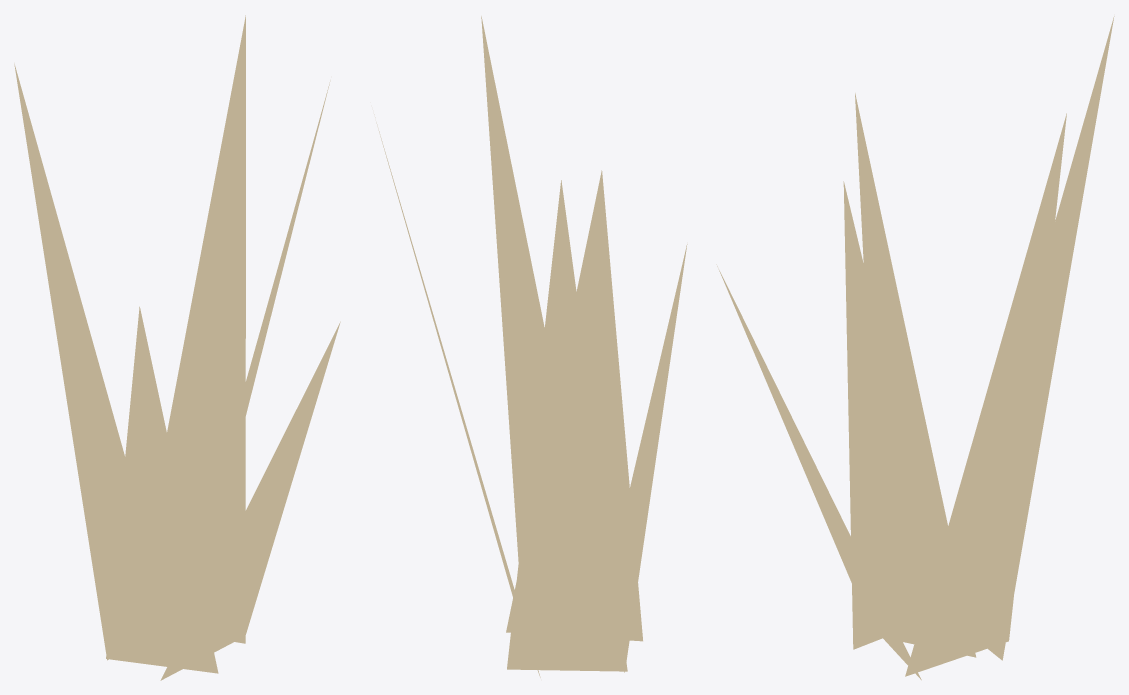
3 views of the same model, side by side, from view 1: azimuth 30°, elevation 25°; view 2: azimuth 150°, elevation 25°; view 3: azimuth 270°, elevation 25° (orthographic). The views are drawn at different scales.
Parts seen in each view (by area): view 1: SC_LarchGrassDry; view 2: SC_LarchGrassDry; view 3: SC_LarchGrassDry.
Part boxes in pixels (x1=…): SC_LarchGrassDry: x1=14, y1=15, x2=340, y2=680; SC_LarchGrassDry: x1=374, y1=16, x2=687, y2=677; SC_LarchGrassDry: x1=716, y1=16, x2=1114, y2=680.
Size of the model in its own units: 0.2046 by 0.5304 by 0.3093.
